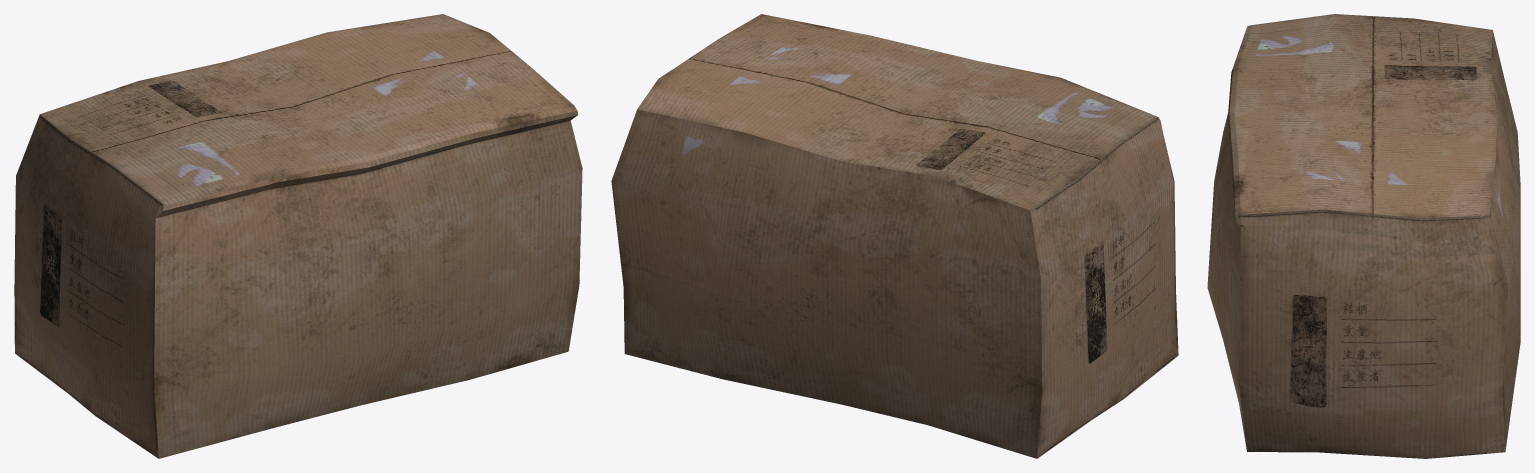
File: Cardboard_A.fbx
3 renders of one model, left to right at view 1: azimuth 30°, elevation 25°; view 2: azimuth 150°, elevation 25°; view 3: azimuth 270°, elevation 25°, orthographic. The views are drawn at different scales.
Visible parts, largest first — view 1: Cardboard_A; view 2: Cardboard_A; view 3: Cardboard_A.
Part boxes in pixels (<box>): Cardboard_A: <box>14,14,582,458</box>; Cardboard_A: <box>611,14,1178,458</box>; Cardboard_A: <box>1207,14,1520,458</box>.
Bounding box in the file's own units: 61.21 × 32.45 × 36.51.
1 material, 1 textured.
